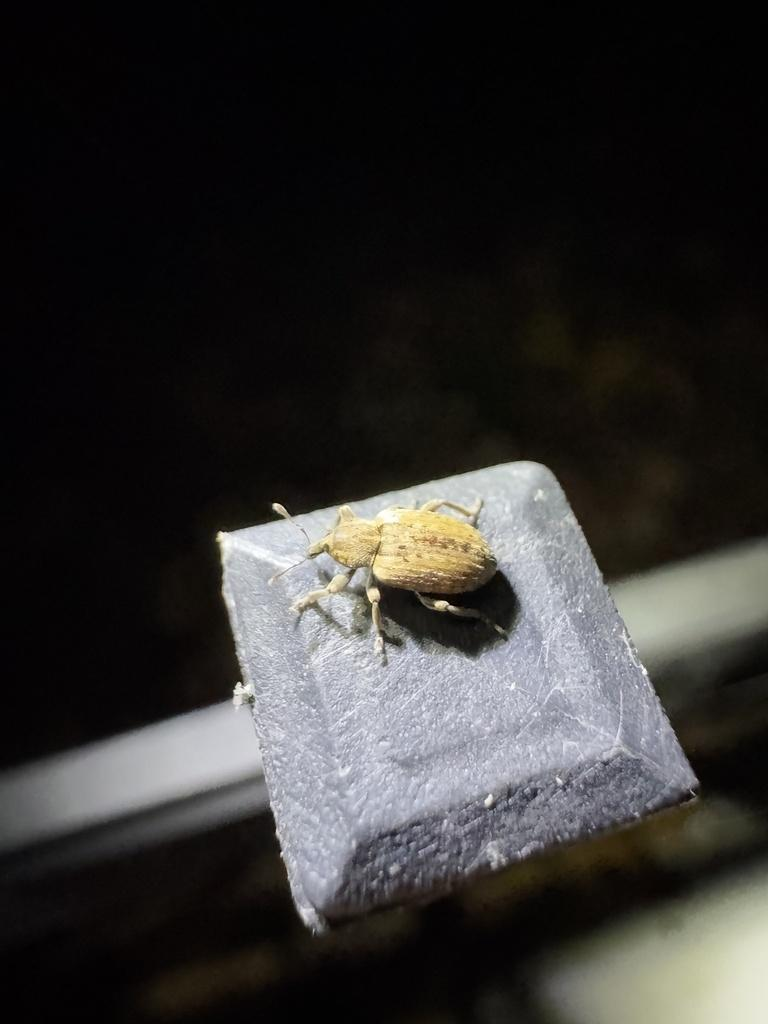weevils: (216, 427, 566, 693)
